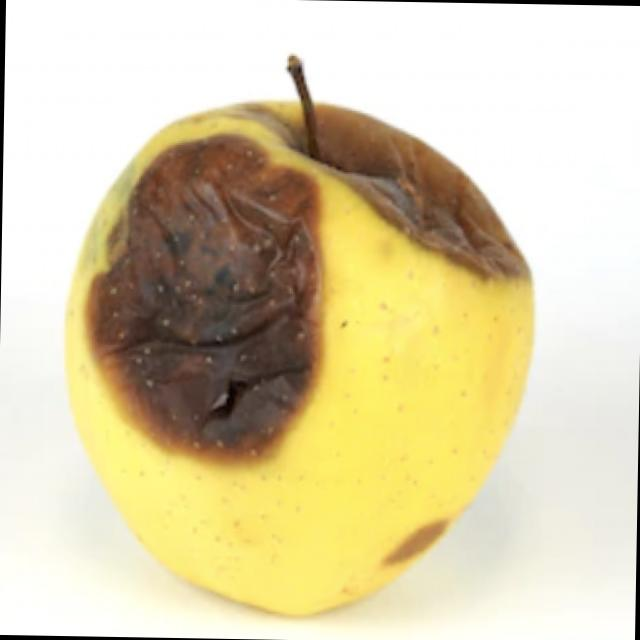rotten_apple: (51, 58, 540, 623)
